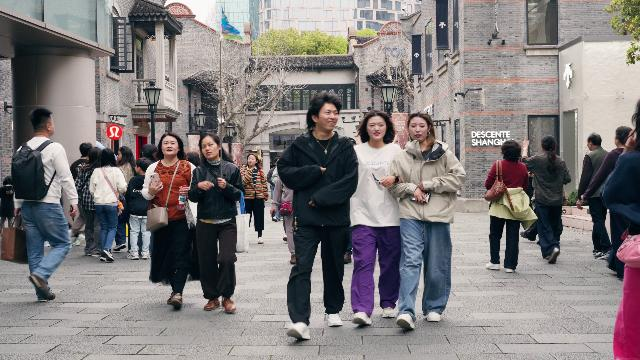person: (276, 91, 359, 341), (387, 110, 467, 331), (11, 108, 81, 302), (348, 109, 406, 327), (143, 117, 202, 327), (188, 132, 245, 314), (576, 125, 633, 279), (483, 140, 538, 273), (519, 135, 572, 264), (581, 132, 614, 260), (73, 146, 105, 258), (239, 152, 269, 244), (68, 142, 93, 247), (111, 177, 129, 252), (0, 175, 17, 237), (115, 145, 136, 182)
